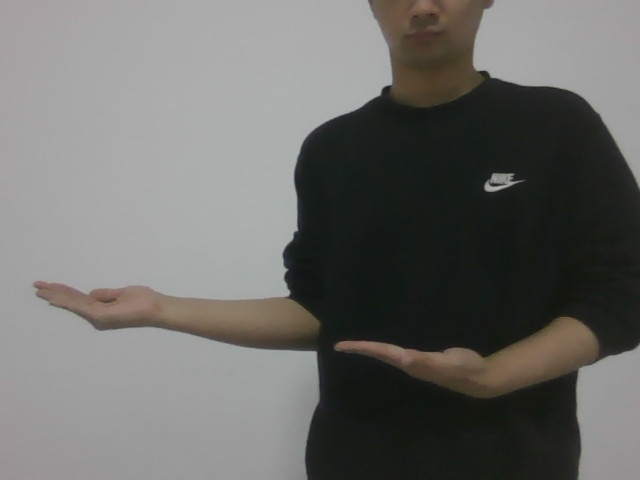please: (24, 255, 500, 409)
